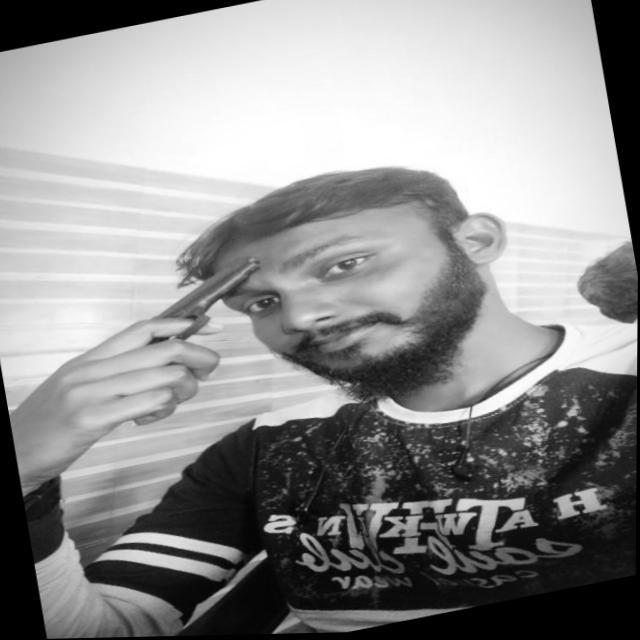weapon: (72, 250, 293, 428)
